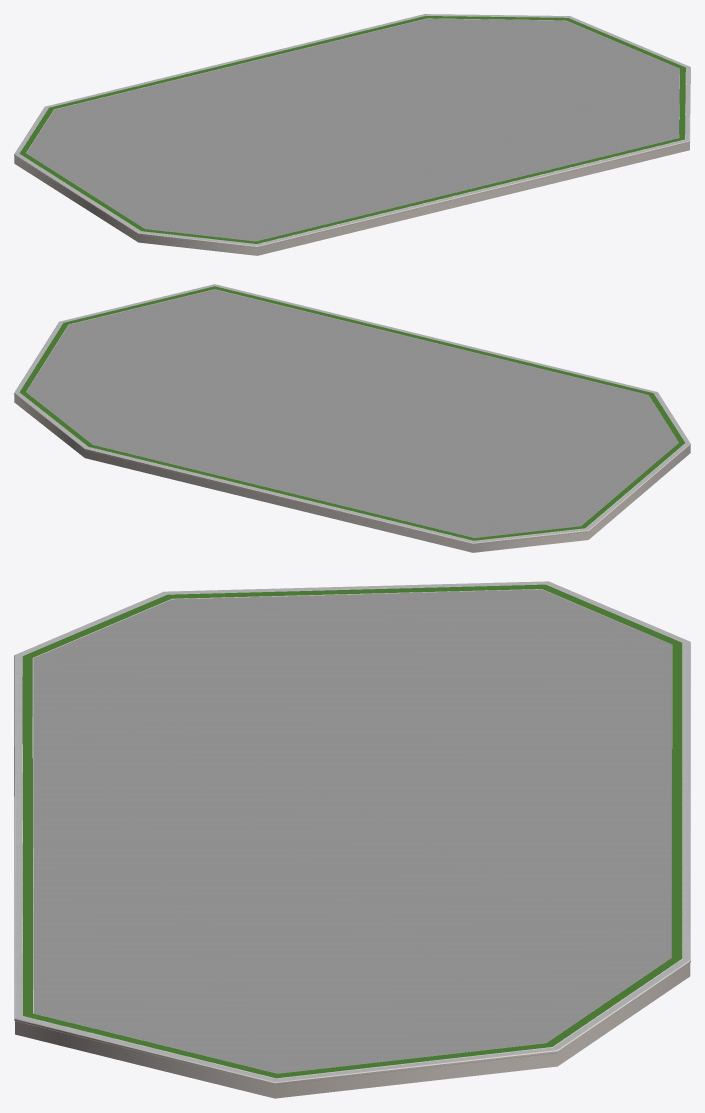
File: pierb.glb
3 renders of one model, top to bottom at view 1: azimuth 30°, elevation 25°; view 2: azimuth 150°, elevation 25°; view 3: azimuth 270°, elevation 25°, orthographic. The views are drawn at different scales.
Visible parts, largest first — view 1: pierb; view 2: pierb; view 3: pierb.
Boxes of the visible parts, box(x1,y1,x2,y2) form: pierb: box(14, 14, 690, 255); pierb: box(14, 284, 690, 552); pierb: box(14, 581, 690, 1098).
Bounding box in the file's own units: 461 × 7.1 × 263.
4 materials, 4 textured.
